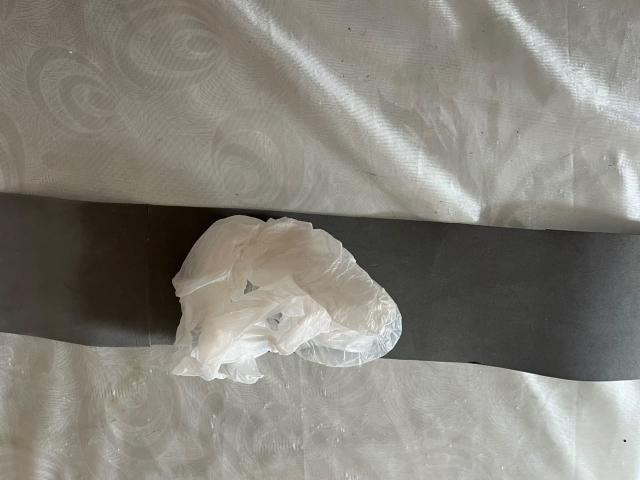LDPE: (146, 209, 428, 405)
